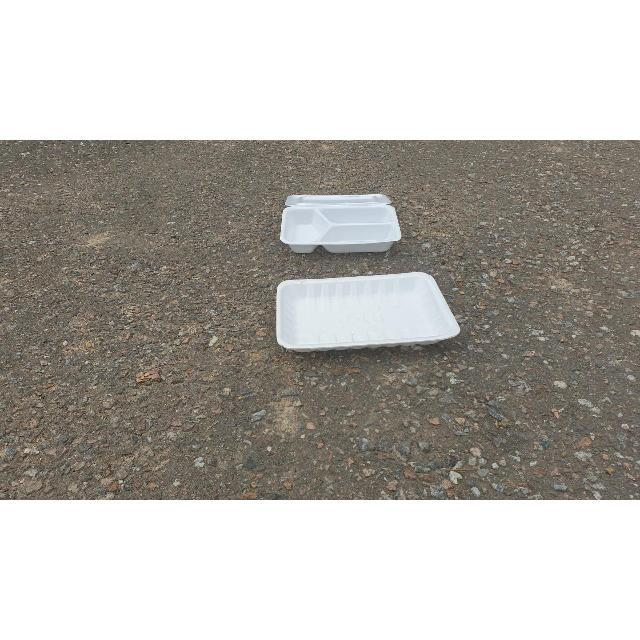Recipiente plastico: (276, 272, 460, 351), (280, 195, 401, 252)
